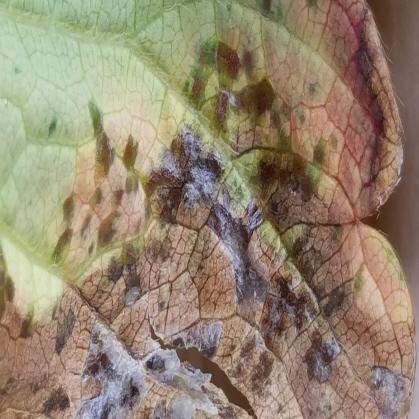Angular Leafspot: (0, 0, 416, 418)
